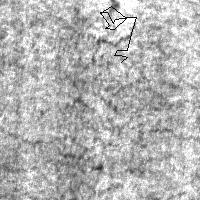crazing: (71, 21, 140, 114), (1, 126, 89, 176), (124, 117, 199, 173), (100, 6, 136, 62)
